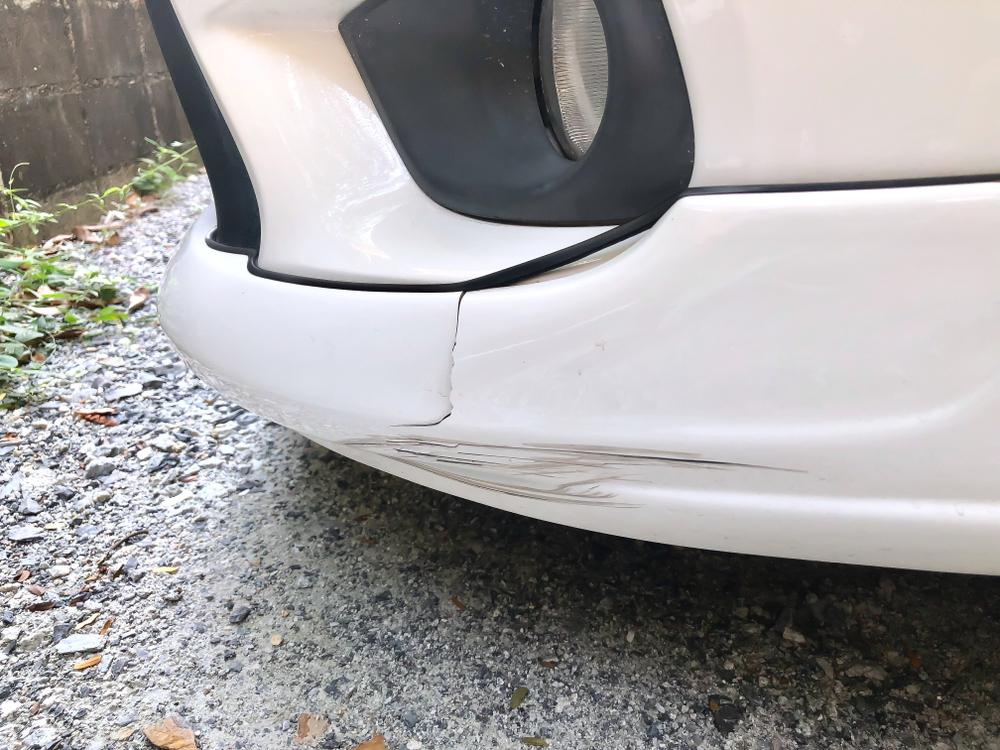crack: (382, 293, 466, 428)
scratch: (336, 427, 833, 506)
